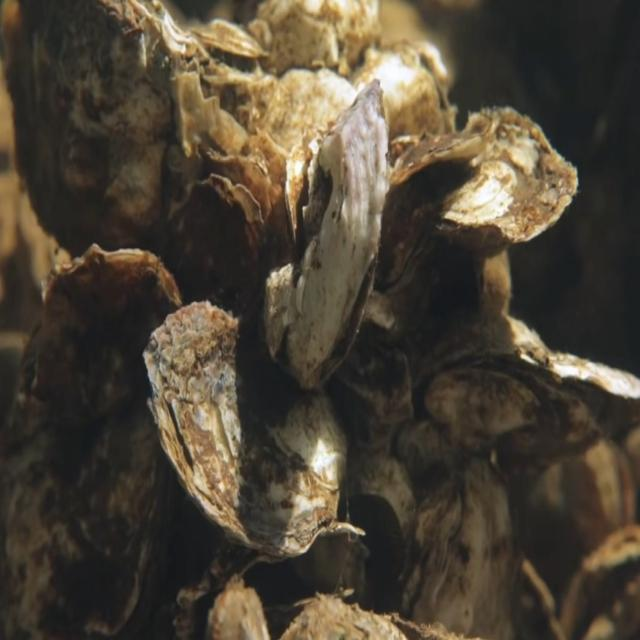Oyster-Closed: (4, 240, 184, 640), (141, 299, 352, 562), (262, 78, 388, 392), (410, 313, 640, 477), (383, 107, 581, 295), (394, 455, 522, 640)
Oyster-Indeterminate: (6, 0, 220, 272), (169, 172, 269, 326)
Oyster-Open: (232, 523, 366, 640)
